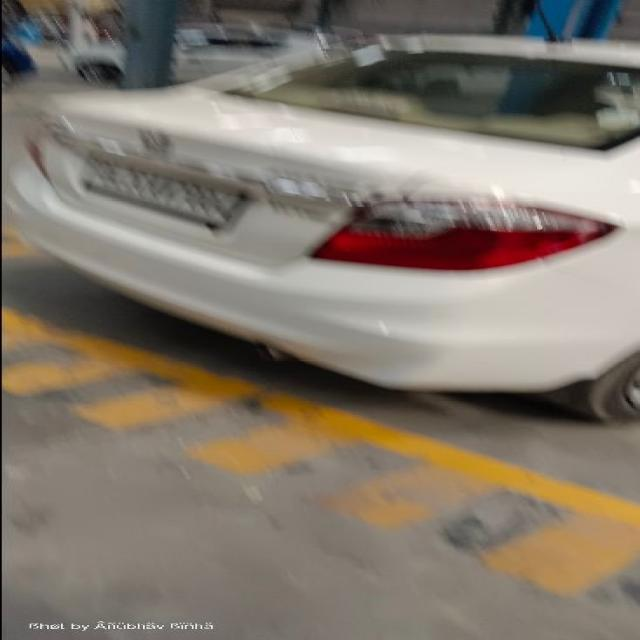license_plate: (7, 31, 636, 414), (72, 147, 251, 230)
